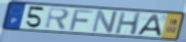5: (25, 5, 45, 29)
A: (135, 14, 163, 37)
F: (68, 8, 95, 32)
H: (114, 11, 144, 36)
N: (90, 9, 120, 34)
R: (43, 7, 71, 31)
